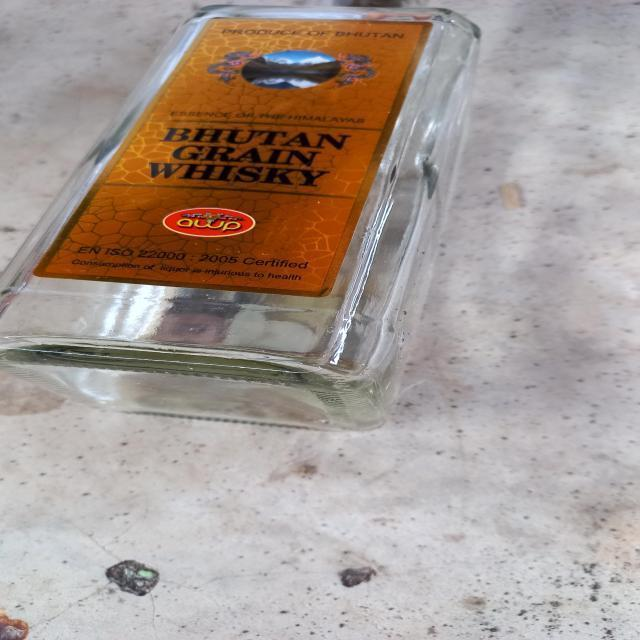Glass: (0, 1, 483, 434)
